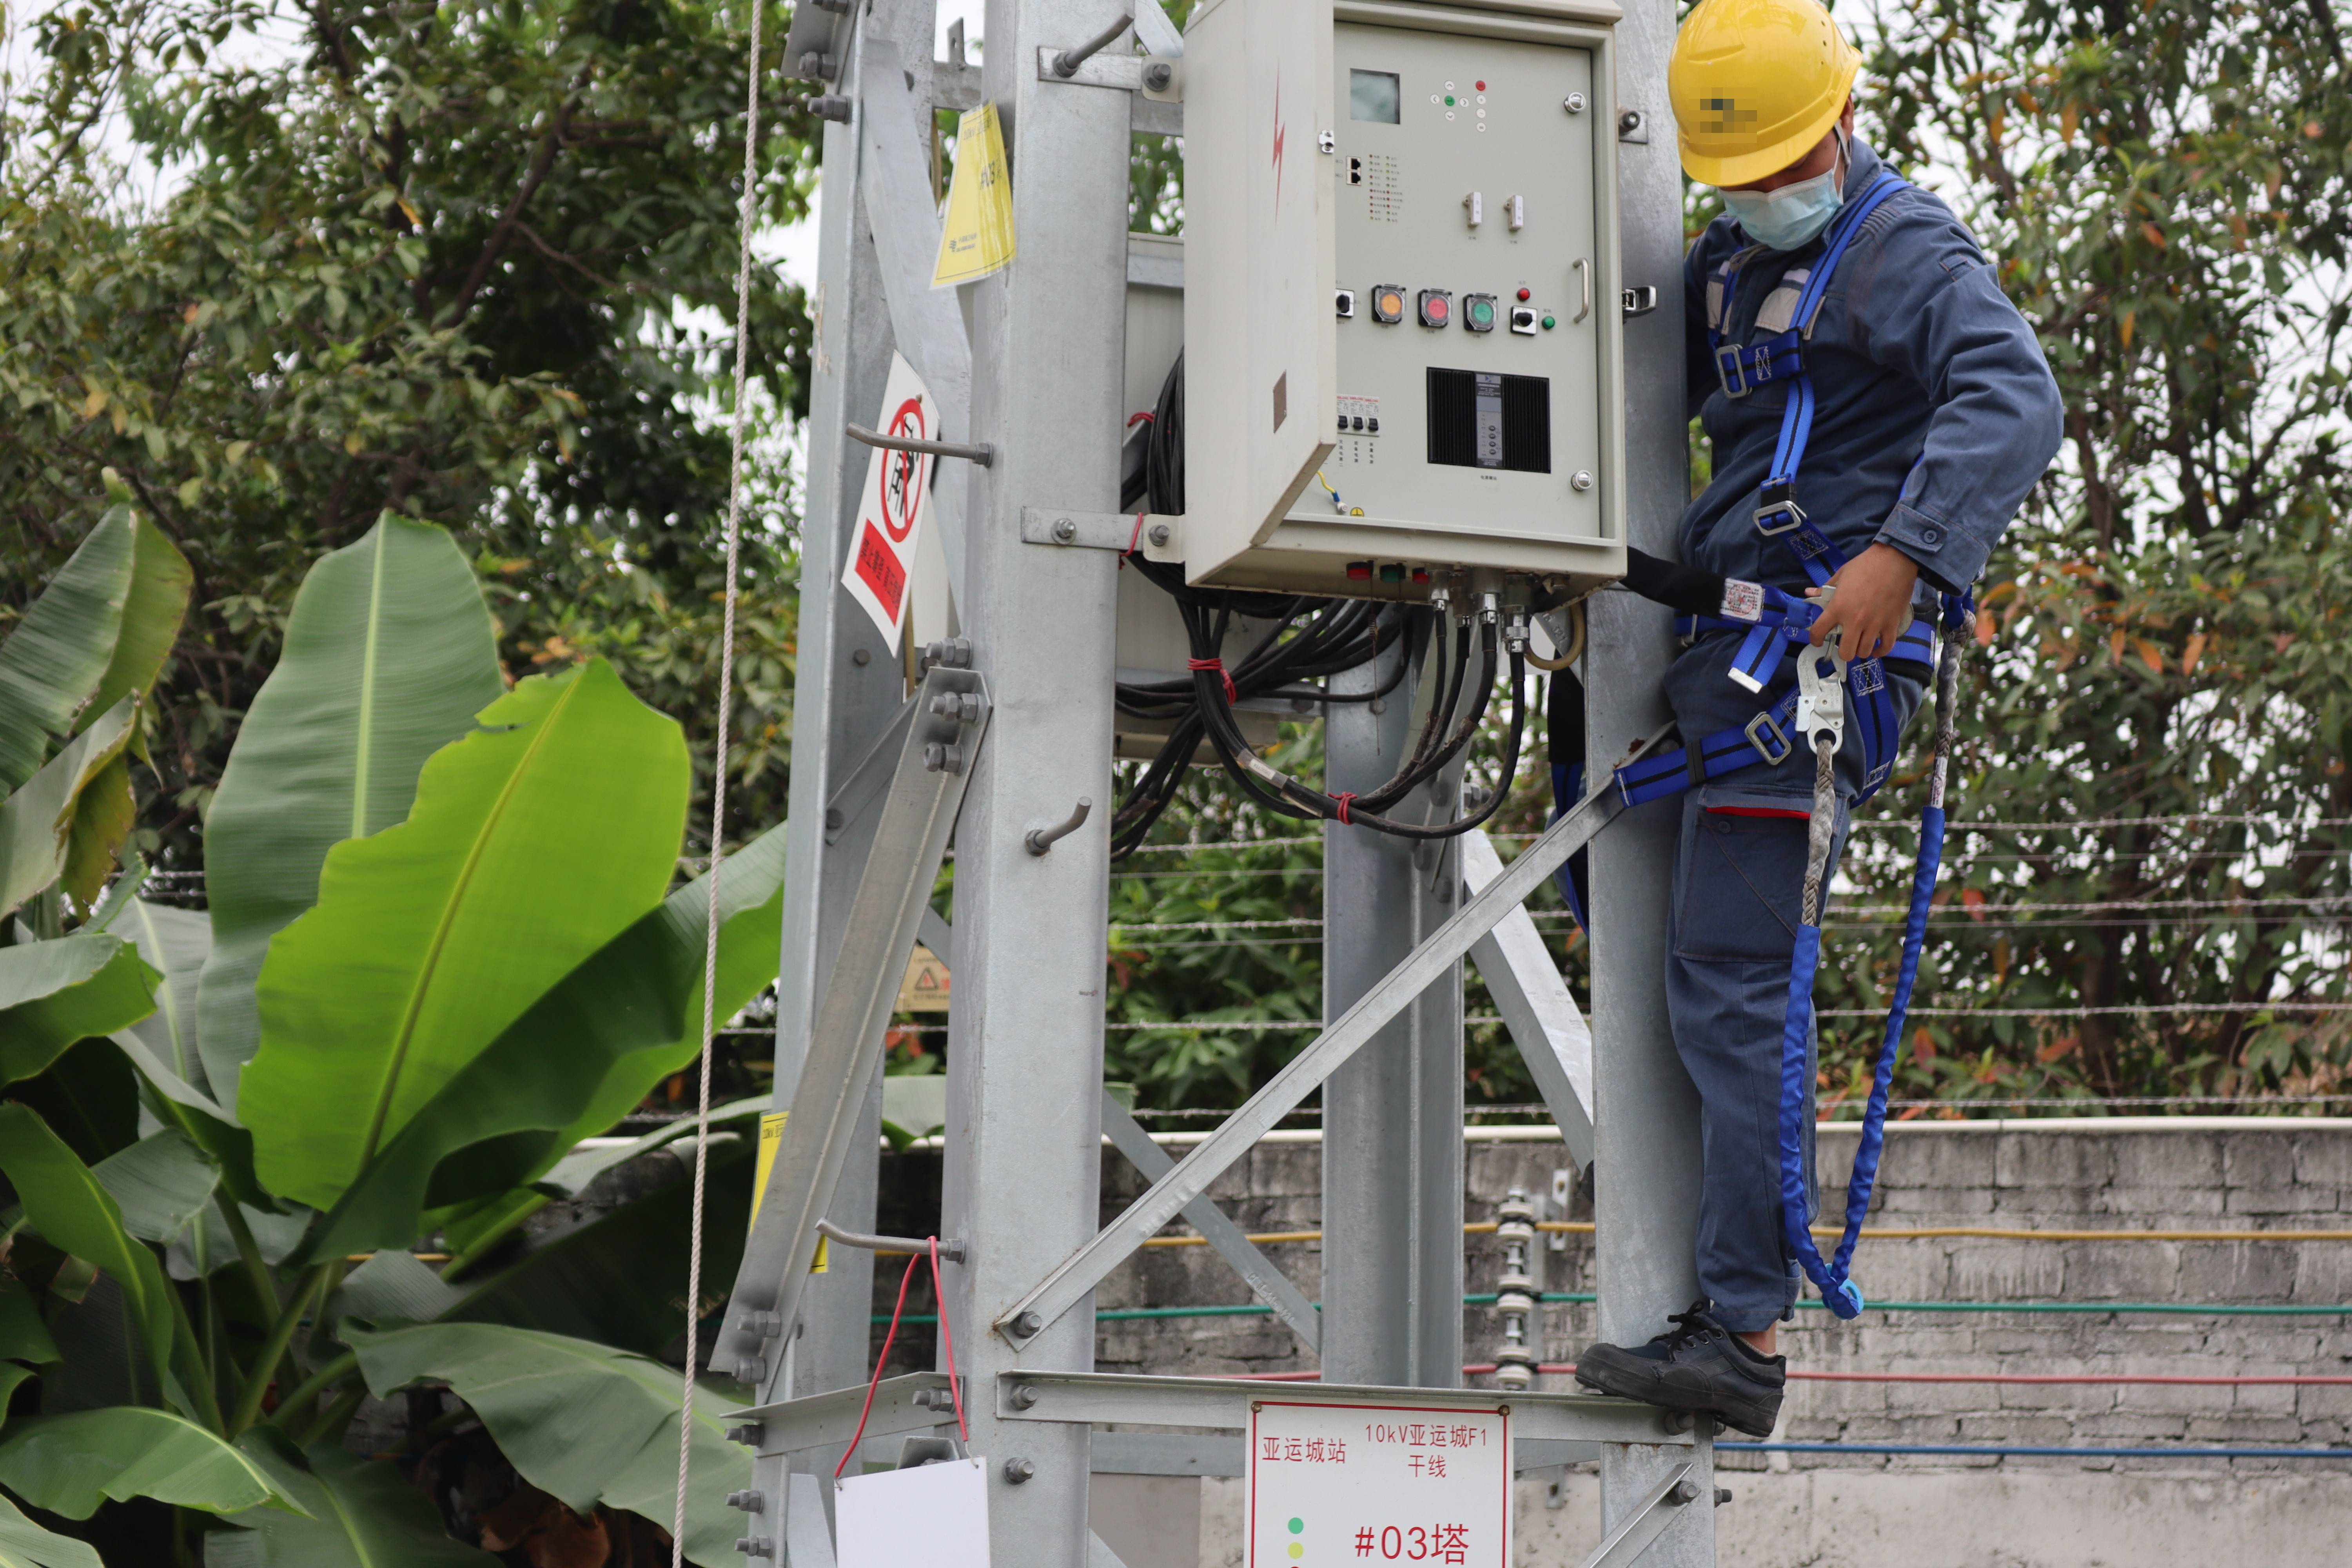downsuit: (1668, 647, 1920, 1330)
upsuit: (1683, 138, 2070, 607)
